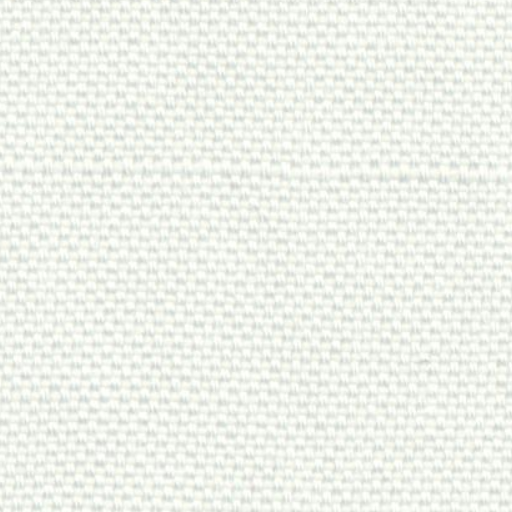TuoSha: (8, 130, 500, 212)
